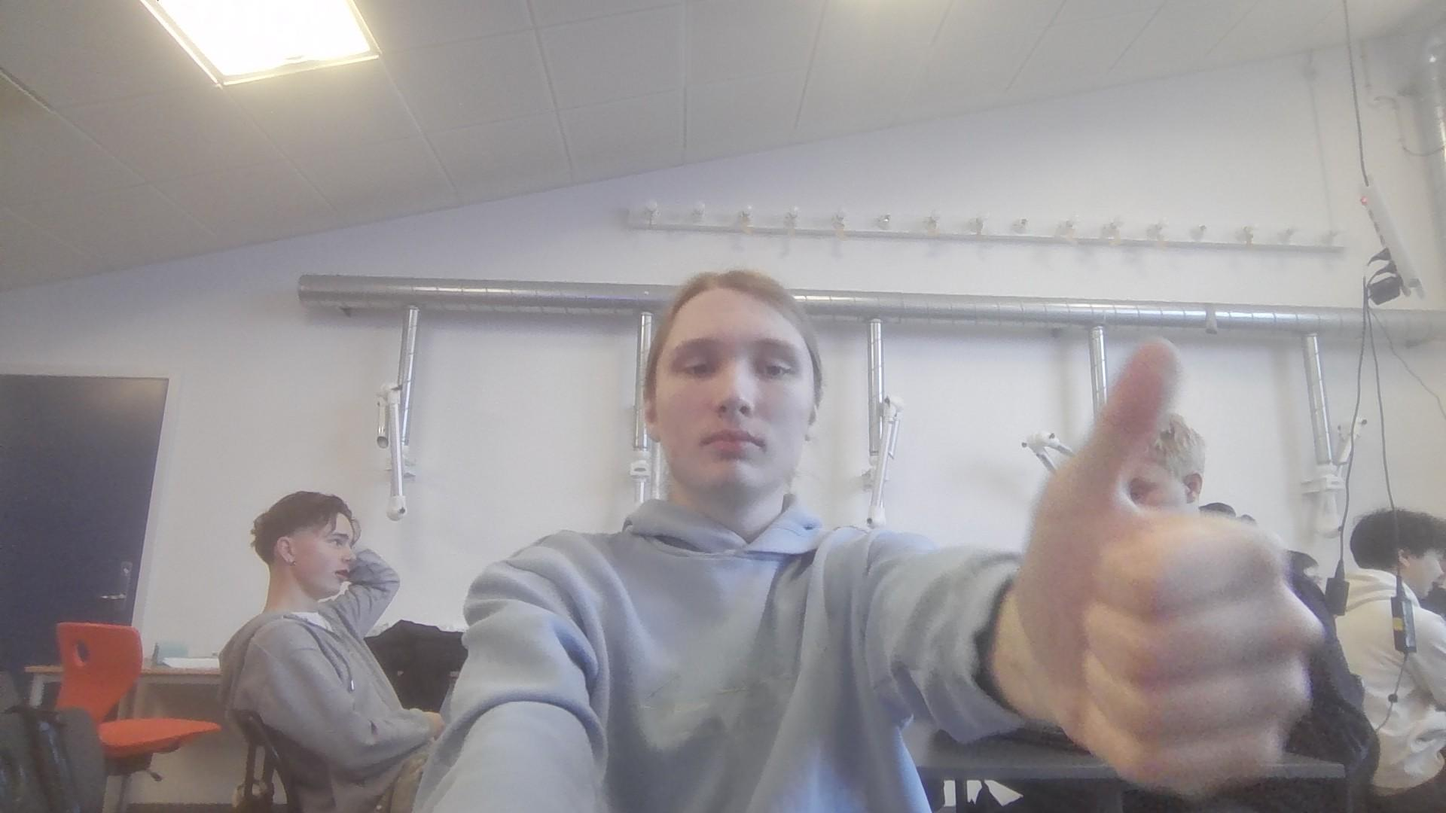thumbs up: (1013, 332, 1305, 794)
